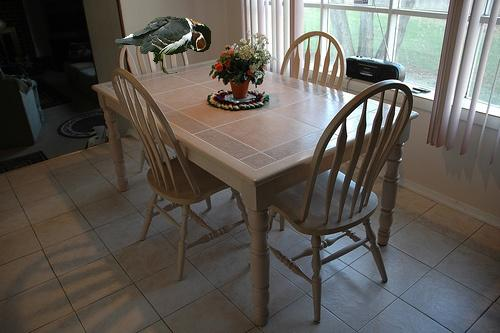tampered: (116, 17, 211, 74)
